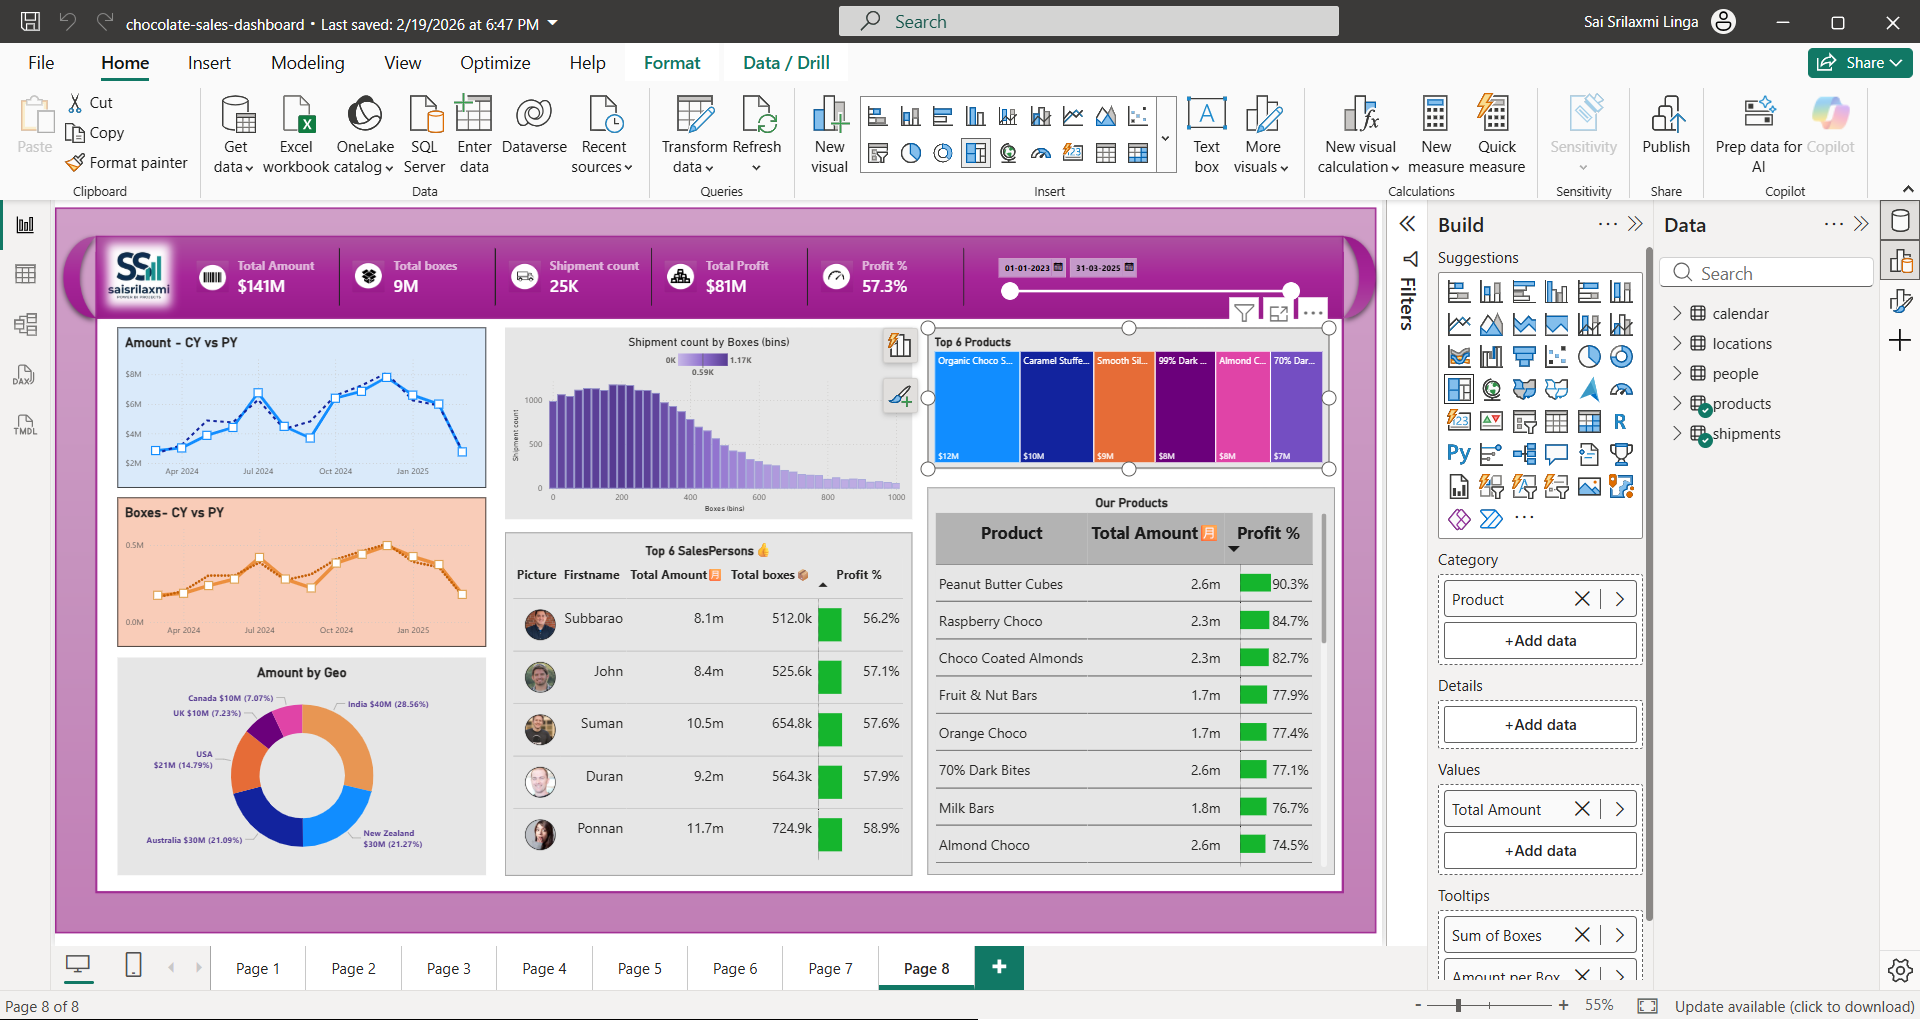

The dashboard page shown, as its layout file describes it:
{"tool":"powerbi","page":{"name":"Page 8","canvas":[1920,1080],"ordinal":7},"visuals":[{"type":"lineChart","title":"Amount - CY vs PY","fields":{"Y":["shipments.Total Amount","shipments.Total amount (last year)"],"Category":["calendar.Start of Month"]},"box":[90.8,184.2,533.9,232.3],"z":0},{"type":"lineChart","title":"Boxes- CY vs PY","fields":{"Category":["calendar.Start of Month"],"Y":["shipments.Total boxes","shipments.Total Boxes(Last year)"]},"box":[90.8,429.8,533.9,216.2],"z":1000},{"type":"donutChart","title":"Amount by Geo","fields":{"Category":["locations.Geo"],"Y":["shipments.Total Amount"]},"box":[90.8,662.1,533.9,315],"z":2000},{"type":"clusteredColumnChart","fields":{"Y":["shipments.Shipment count"],"Category":["shipments.Boxes (bins)"]},"box":[651.4,184.2,590,277.6],"z":3000},{"type":"tableEx","title":"Top 6 SalesPersons👍","fields":{"Values":["people.Picture","people.Firstname","shipments.Total Amount","shipments.Total boxes","shipments.Profit %"]},"box":[651.4,480.5,590,496.6],"z":4000},{"type":"treemap","title":"Top 6 Products","fields":{"Group":["products.Product"],"Values":["shipments.Total Amount"]},"box":[1262.8,184.2,582,205.6],"z":5000},{"type":"tableEx","title":"Our Products","fields":{"Values":["products.Product","shipments.Total Amount","shipments.Profit %"]},"box":[1262.8,416.5,590,560.6],"z":6000},{"type":"cardVisual","fields":{"Data":["shipments.Total Amount","shipments.Total boxes","shipments.Shipment count","shipments.Total Profit","shipments.Profit %"]},"box":[184.2,58.7,1142.6,106.8],"z":6001},{"type":"slicer","fields":{"Values":["calendar.cal_date"]},"box":[1353.5,74.8,456.5,74.8],"z":6002}]}

Visuals, with their boxes on the page's 1920x1080 design canvas (x1, y1, x2, y2). These are canvas units, not pixel positions in the 1920x1020 screenshot, which may show the page scaled, cropped or inside an application window:
"Amount - CY vs PY" lineChart: crop(91, 184, 625, 416)
"Boxes- CY vs PY" lineChart: crop(91, 430, 625, 646)
"Amount by Geo" donutChart: crop(91, 662, 625, 977)
clusteredColumnChart - shipments.Shipment count x shipments.Boxes (bins): crop(651, 184, 1241, 462)
"Top 6 SalesPersons👍" tableEx: crop(651, 480, 1241, 977)
"Top 6 Products" treemap: crop(1263, 184, 1845, 390)
"Our Products" tableEx: crop(1263, 416, 1853, 977)
cardVisual - shipments.Total Amount x shipments.Total boxes: crop(184, 59, 1327, 166)
slicer - calendar.cal_date: crop(1354, 75, 1810, 150)
